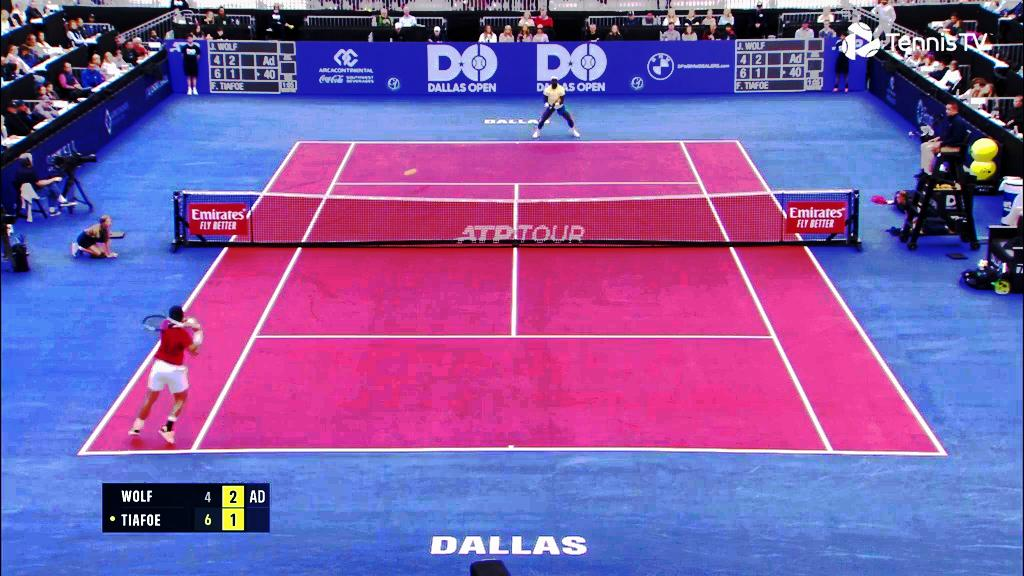tennis-court: (77, 139, 948, 456)
